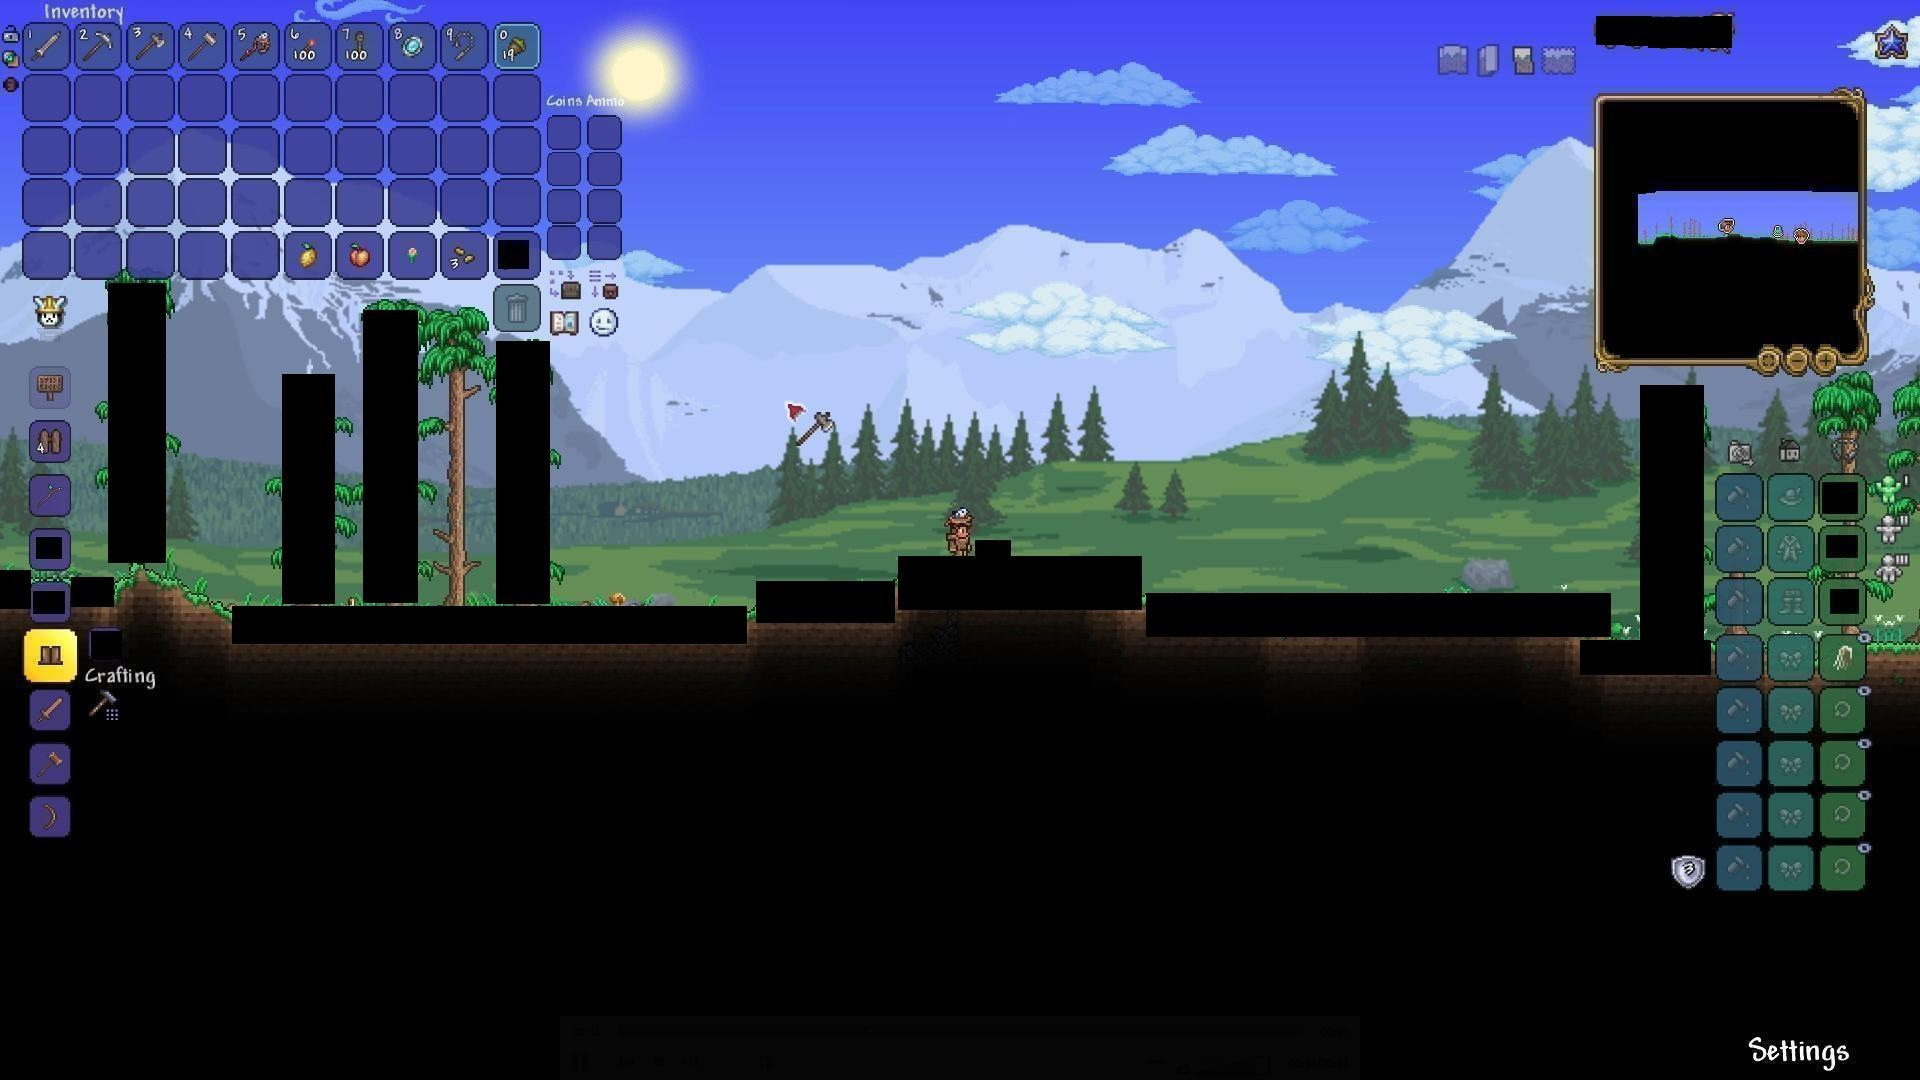dirt: (123, 566, 229, 626), (1869, 633, 1920, 680)
legs: (37, 642, 69, 665)
tree: (435, 332, 479, 604)
